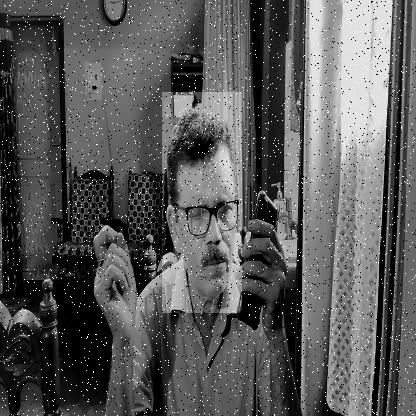Distracted: (162, 92, 242, 313)
